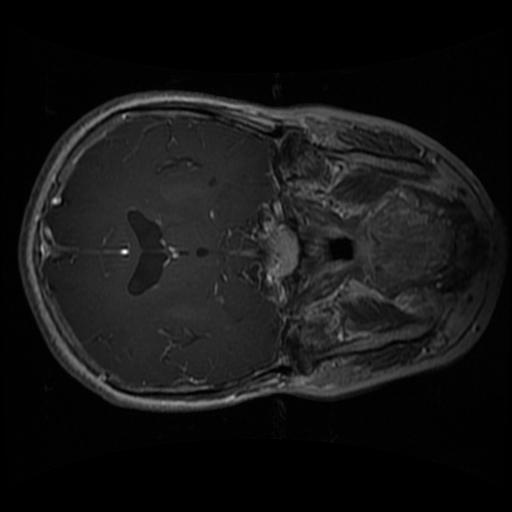glioma: (151, 152, 217, 191)
